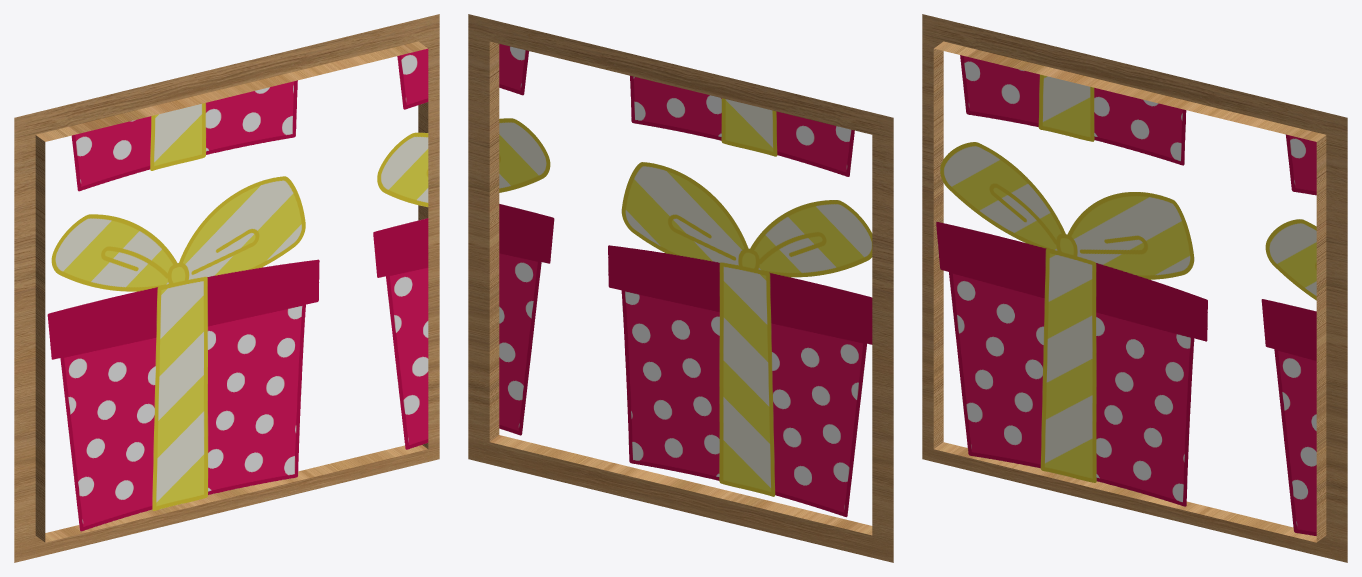
File: boxsquare.fbx
3 views of the same model, side by side, from view 1: azimuth 30°, elevation 25°; view 2: azimuth 150°, elevation 25°; view 3: azimuth 330°, elevation 25° (orthographic).
Visible parts, largest first — view 1: Plane; view 2: Plane; view 3: Plane.
Part boxes in pixels (x1=…): Plane: x1=14, y1=14, x2=439, y2=562; Plane: x1=468, y1=14, x2=893, y2=562; Plane: x1=922, y1=14, x2=1347, y2=562.
Bounding box in the file's own units: 270 × 270 × 10.73.
2 materials, 2 textured.
